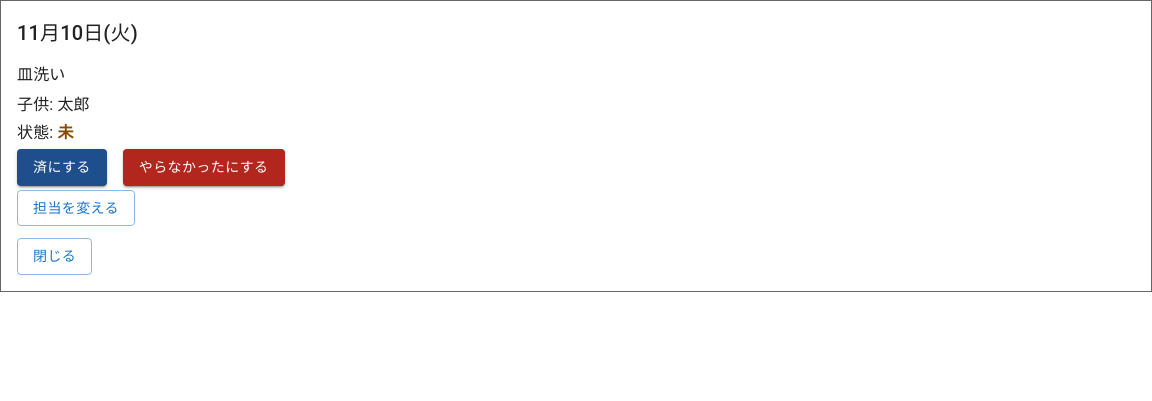
Test case: DayDetail › ApiFailure でない失敗は INTERNAL の文言にし、「やめる」で選びを閉じる
The width and height of the screenshot is (1152, 401).
Click the button with test id "change-duty-button" at (76, 208), box [17,190,135,226]
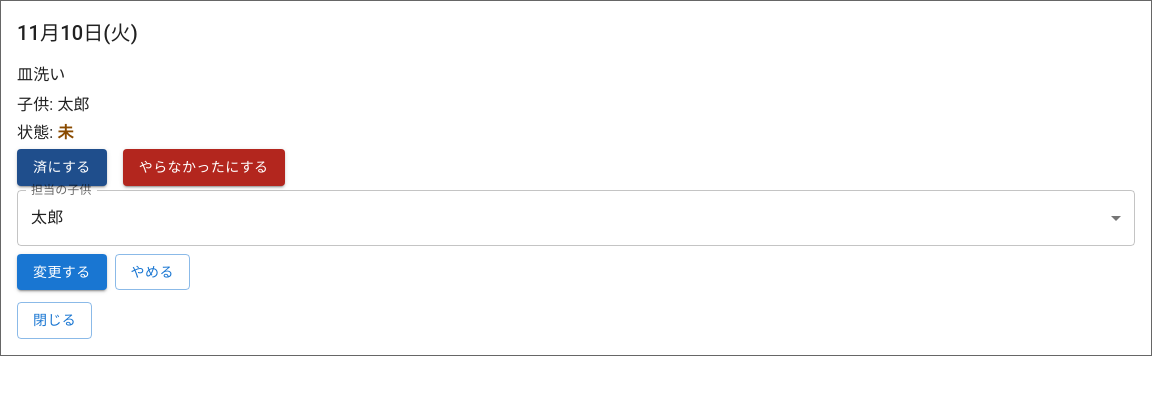
Select "次郎" in the dropdown with test id "change-child-select" at (576, 218), box [17,190,1135,246]
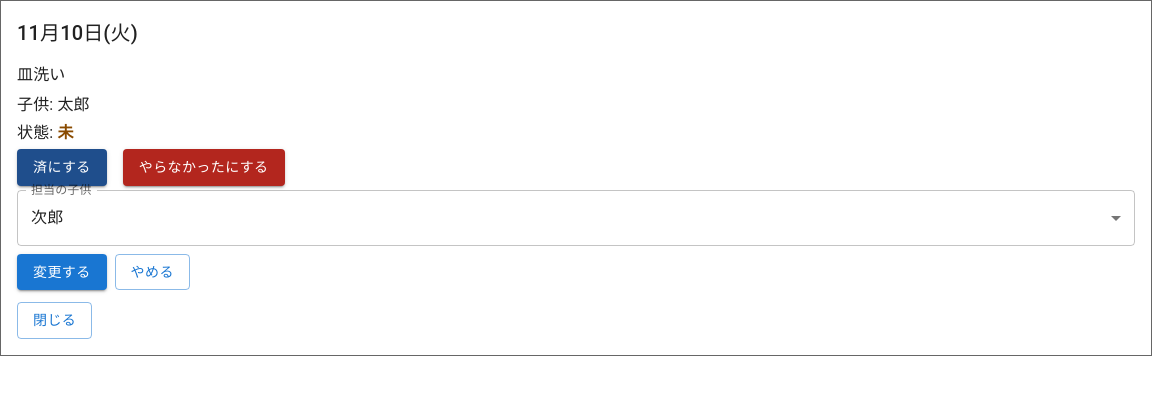
Click the button with test id "change-child-confirm-button" at (62, 272), box [17,254,107,290]
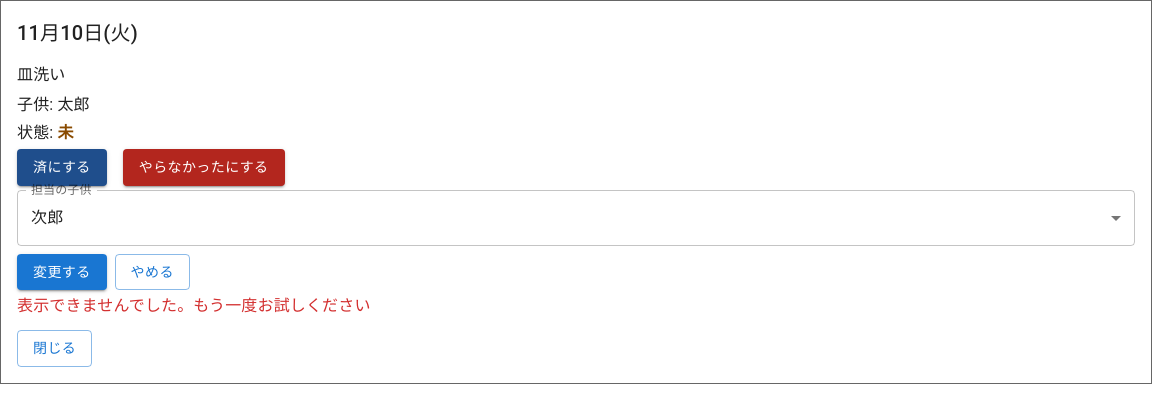
Now the message with test id "change-error" reads "表示できませんでした。もう一度お試しください", box [17,296,370,315]
Click the button with test id "change-child-cancel-button" at (152, 272), box [115,254,190,290]
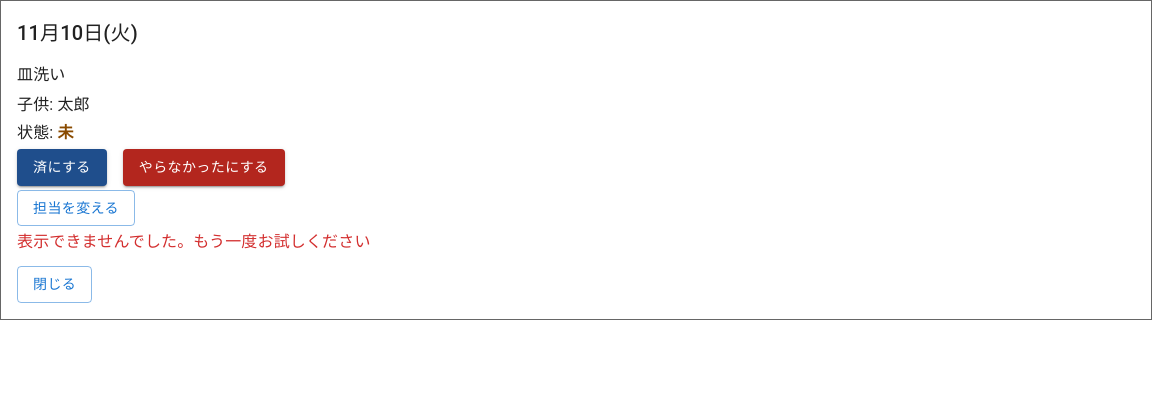
Now the dropdown with test id "change-child-select" is gone
Now the button with test id "change-duty-button" is shown, box [17,190,135,226]
